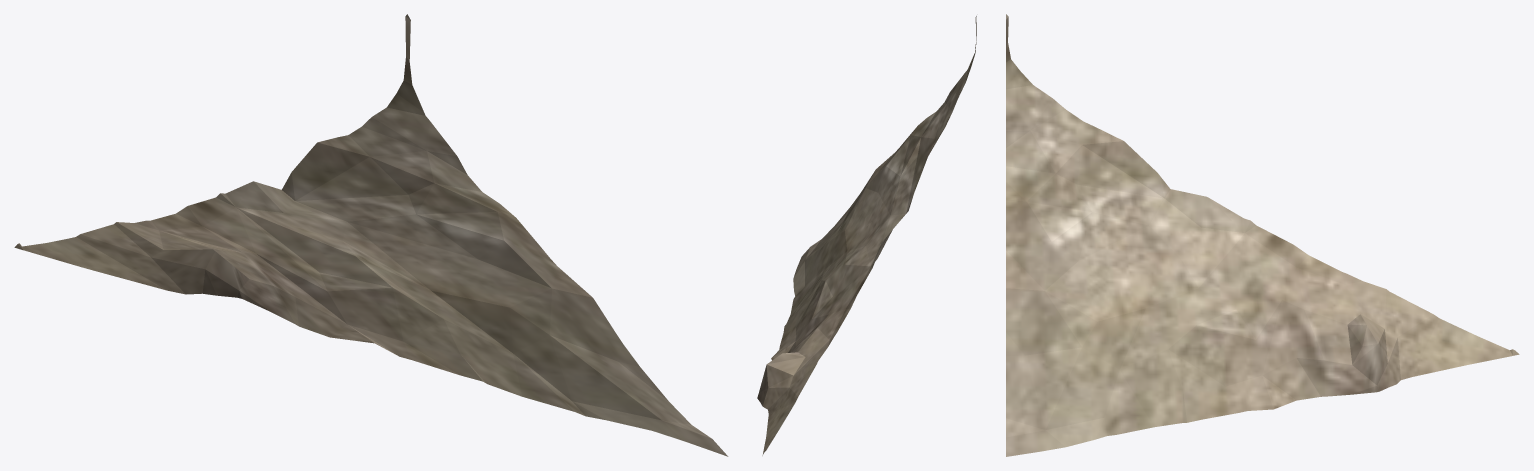
The picture shows the model from 3 angles, left to right: view 1: azimuth 30°, elevation 25°; view 2: azimuth 150°, elevation 25°; view 3: azimuth 270°, elevation 25°; orthographic projection. The views are drawn at different scales.
Size of the model in its own units: 0.9065 by 1.41 by 1.92.
1 material, 1 textured.
